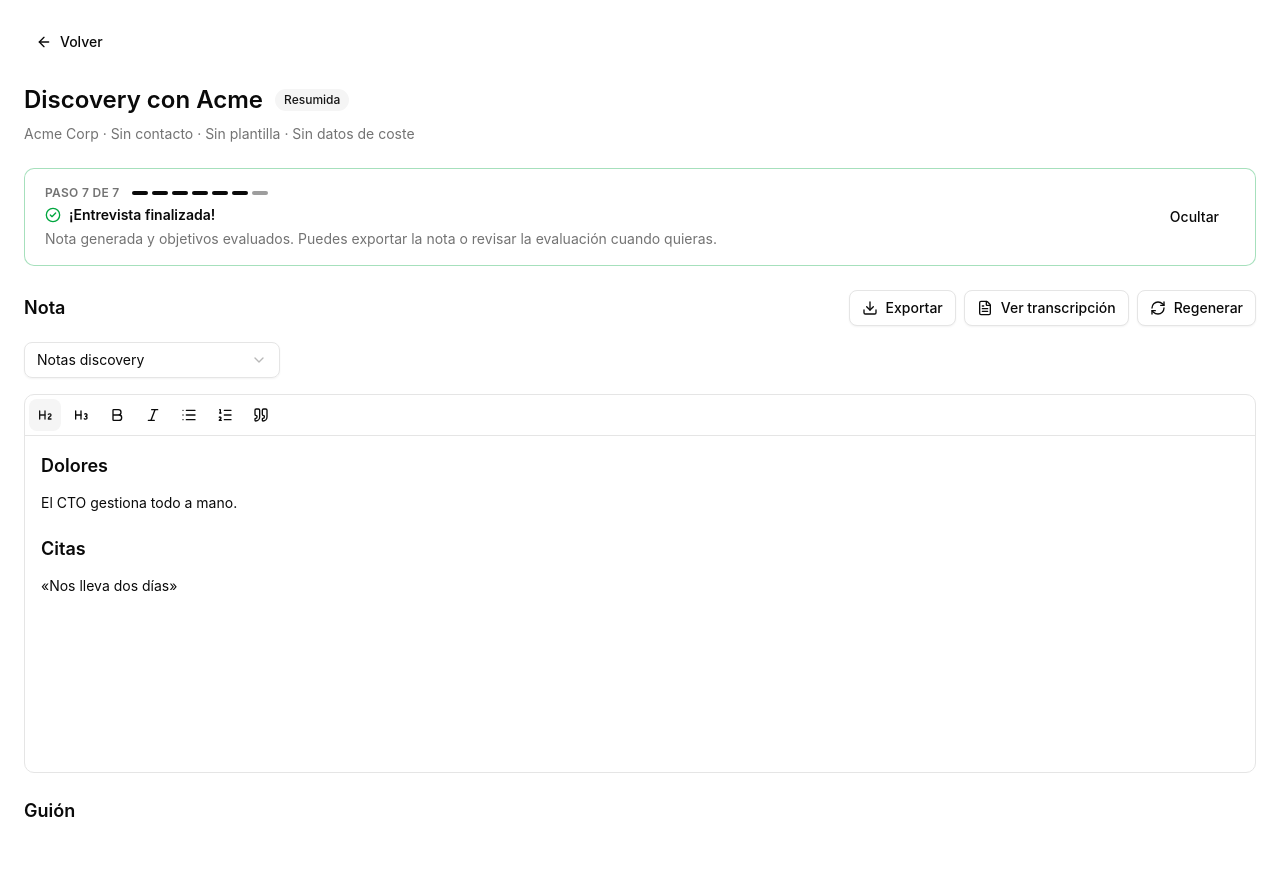
Test: NoteSection › always-on editing (SPEC-029) › hides the Guardar/Descartar bar when the edit is undone back to the persisted content
Click the button named "Encabezado 3" at (81, 415), box [65,399,97,431]
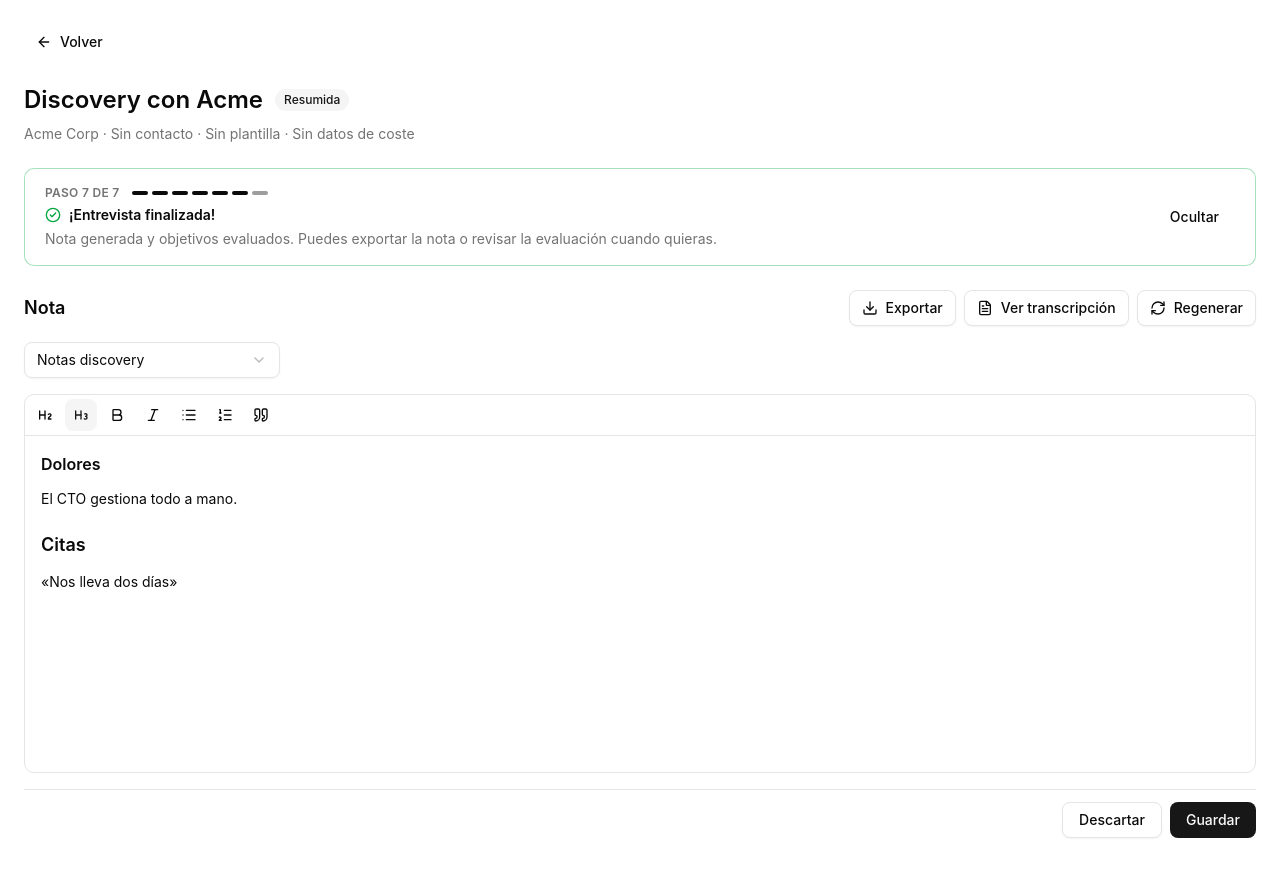
Expected: the element with test id "note-editor-actions" is shown, [24,789,1256,850]
Click the button named "Encabezado 2" at (45, 415), box [29,399,61,431]
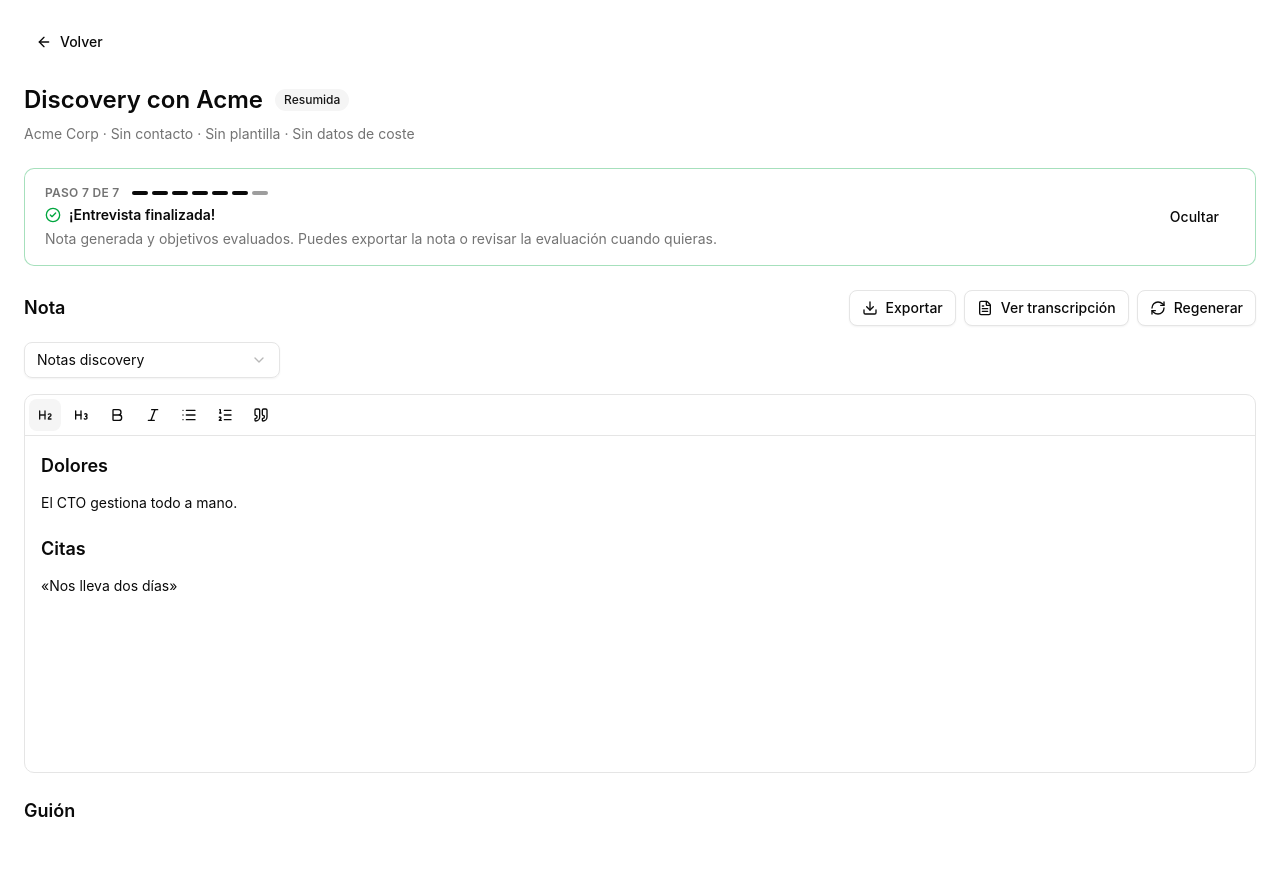
Expected: the element with test id "note-editor-actions" is gone
